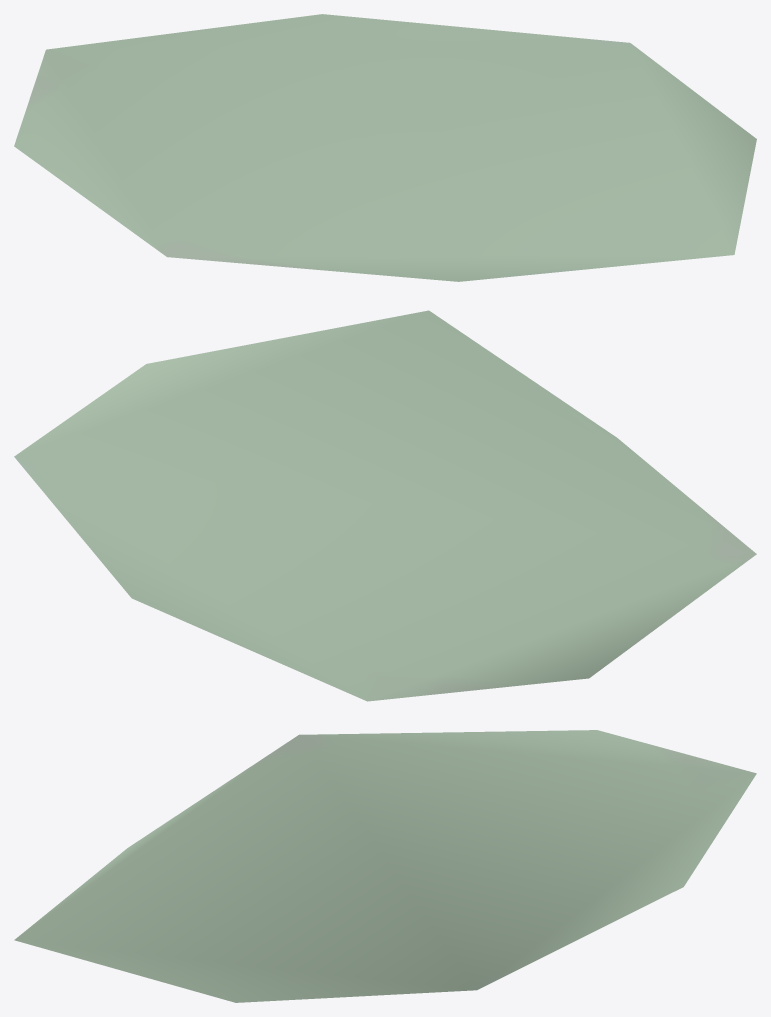
File: TROLLHOLE02_HOLECAP133.fbx
The picture shows the model from 3 angles, top to bottom: view 1: azimuth 30°, elevation 25°; view 2: azimuth 150°, elevation 25°; view 3: azimuth 270°, elevation 25°; orthographic projection. The views are drawn at different scales.
Visible parts, largest first — view 1: TROLLHOLE02_HOLECAP133; view 2: TROLLHOLE02_HOLECAP133; view 3: TROLLHOLE02_HOLECAP133.
Part boxes in pixels (<box>): TROLLHOLE02_HOLECAP133: <box>14,14,756,281</box>; TROLLHOLE02_HOLECAP133: <box>14,310,756,701</box>; TROLLHOLE02_HOLECAP133: <box>14,730,756,1002</box>.
Size of the model in its own units: 21322 by 1091 by 24346.
Materials: 1 (1 with a texture image).
